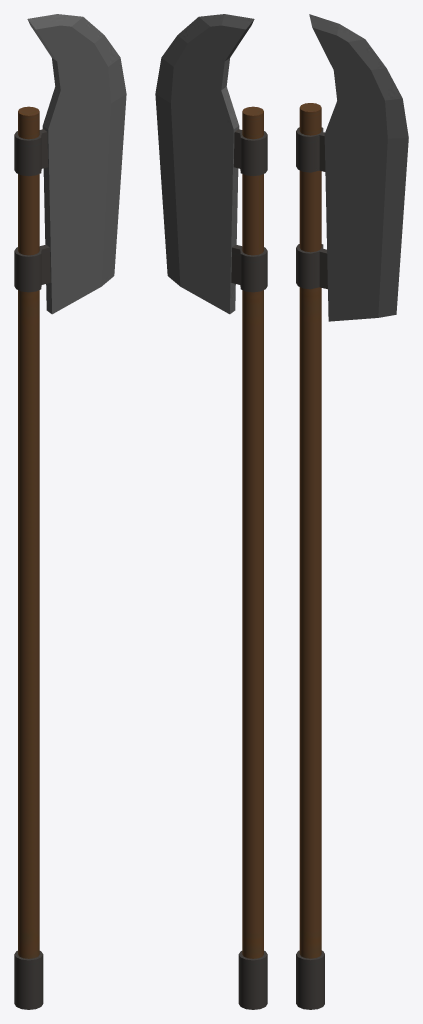
The model's file is Bardiche.fbx.
3 views of the same model, side by side, from view 1: azimuth 30°, elevation 25°; view 2: azimuth 150°, elevation 25°; view 3: azimuth 330°, elevation 25° (orthographic).
Parts seen in each view (by area): view 1: Bardiche_Baked; view 2: Bardiche_Baked; view 3: Bardiche_Baked.
Boxes of the visible parts, <box> form: Bardiche_Baked: <box>14,14,126,1009</box>; Bardiche_Baked: <box>155,14,267,1009</box>; Bardiche_Baked: <box>296,14,408,1009</box>.
Bounding box in the file's own units: 19.66 × 168 × 4.46.
1 material, 1 textured.
